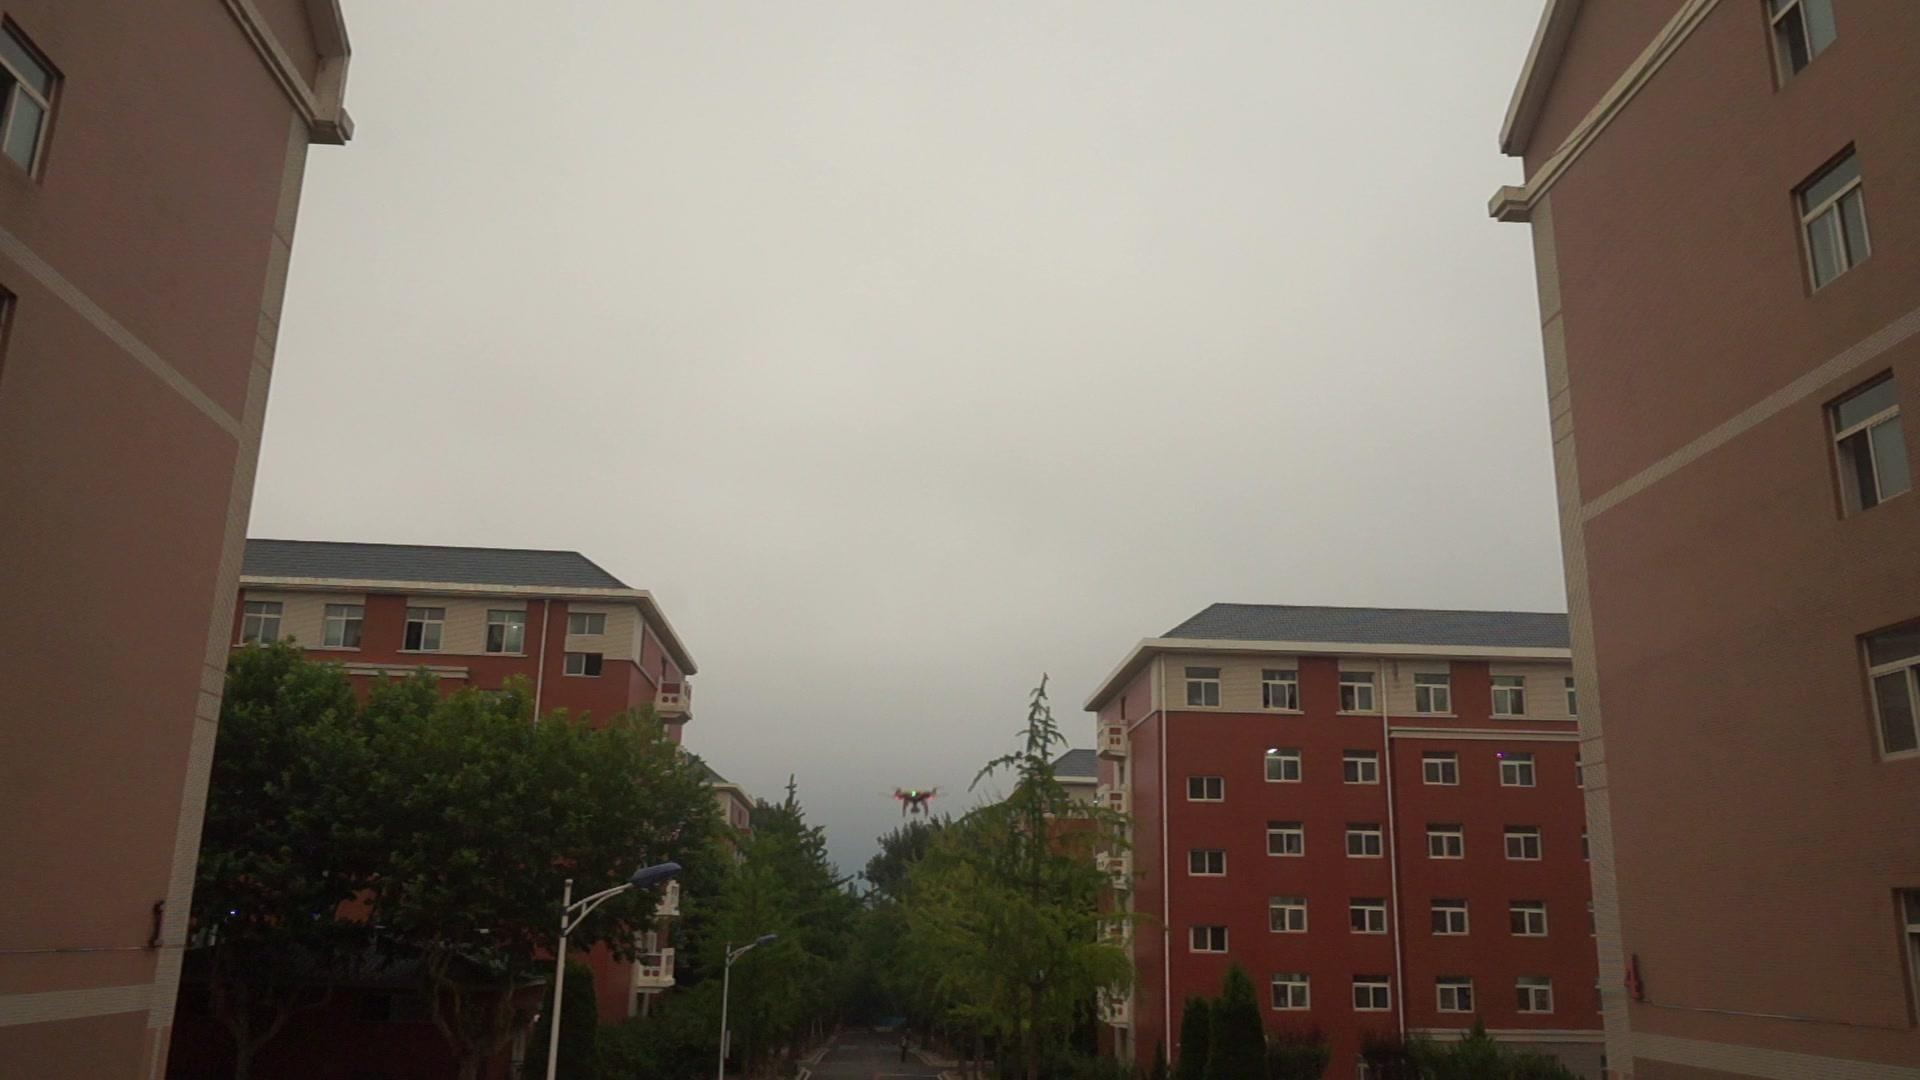UAV: (895, 789, 938, 818)
